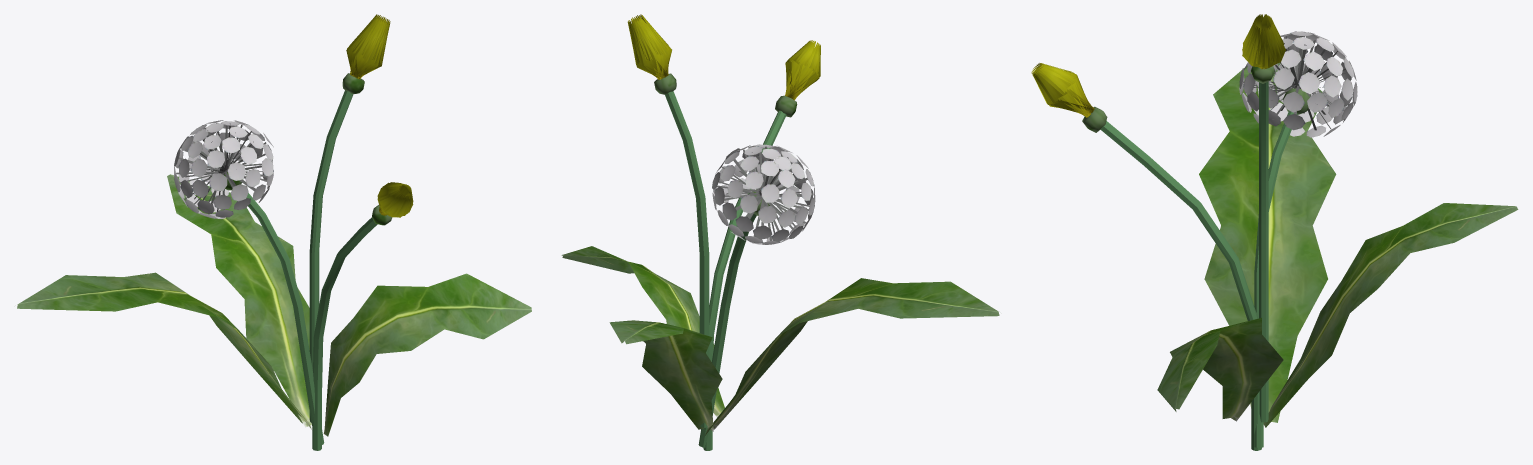
Rendered from dandilions.fbx.
3 renders of one model, left to right at view 1: azimuth 30°, elevation 25°; view 2: azimuth 150°, elevation 25°; view 3: azimuth 270°, elevation 25°, orthographic. The views are drawn at different scales.
Parts seen in each view (by area): view 1: dandylion_night; view 2: dandylion_night; view 3: dandylion_night.
Boxes of the visible parts, x1=… form: dandylion_night: x1=17, y1=14, x2=531, y2=450; dandylion_night: x1=561, y1=14, x2=999, y2=450; dandylion_night: x1=1031, y1=14, x2=1518, y2=450.
Bounding box in the file's own units: 21.4 × 17.85 × 16.77.
Materials: 1 (1 with a texture image).
